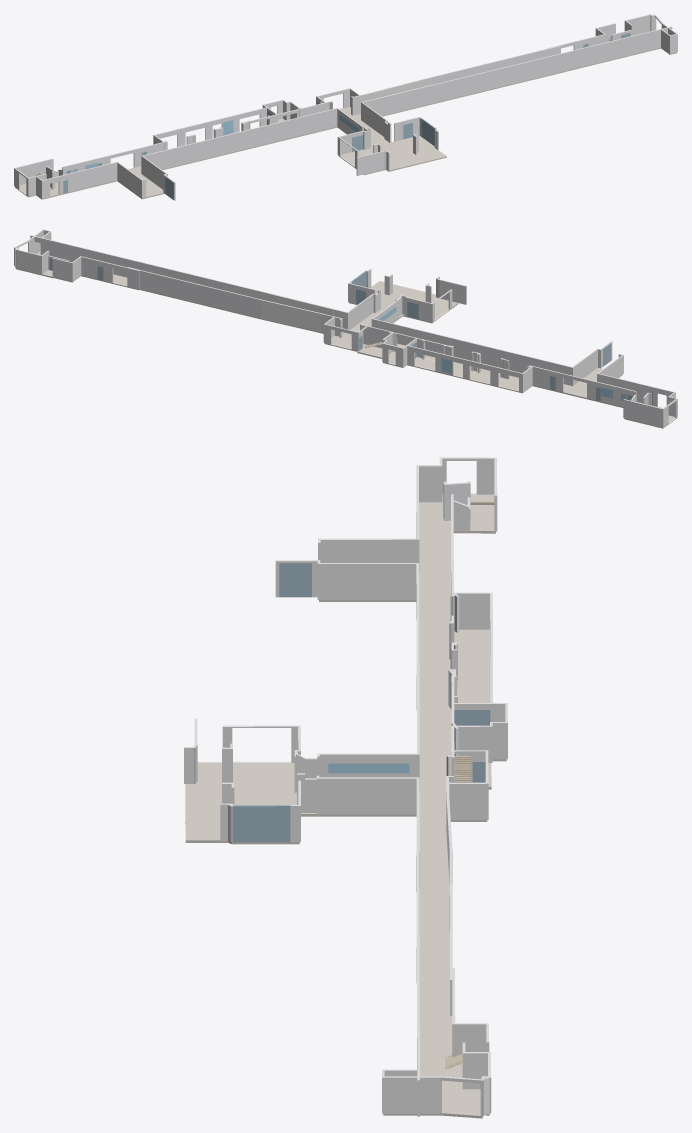
Rendered from SJ_1st_Floor.fbx.
The picture shows the model from 3 angles, top to bottom: view 1: azimuth 30°, elevation 25°; view 2: azimuth 150°, elevation 25°; view 3: azimuth 270°, elevation 25°; orthographic projection. The views are drawn at different scales.
Visible parts, largest first — view 1: SJ1F_Walls, SJ1F_Floor, SJ1F_Doors, SJ1F_Windows; view 2: SJ1F_Walls, SJ1F_Floor, SJ1F_Doors, SJ1F_Windows; view 3: SJ1F_Walls, SJ1F_Floor, SJ1F_Doors.
Part boxes in pixels (x1,y1,x2,y2): SJ1F_Walls: [14, 14, 677, 200]; SJ1F_Floor: [15, 47, 676, 199]; SJ1F_Doors: [63, 32, 630, 199]; SJ1F_Windows: [72, 115, 359, 172]; SJ1F_Walls: [14, 229, 677, 427]; SJ1F_Floor: [16, 251, 676, 428]; SJ1F_Doors: [49, 258, 652, 405]; SJ1F_Windows: [378, 307, 626, 400]; SJ1F_Walls: [184, 457, 507, 1116]; SJ1F_Floor: [185, 494, 506, 1118]; SJ1F_Doors: [233, 563, 490, 842].
Bounding box in the file's own units: 109 × 3.34 × 23.96.
